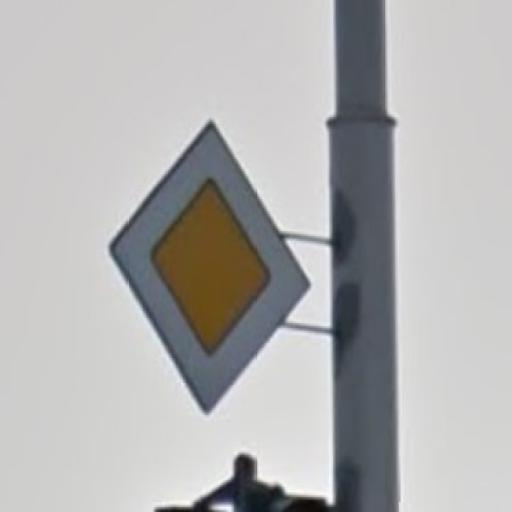traffic_sign: (108, 122, 311, 418)
